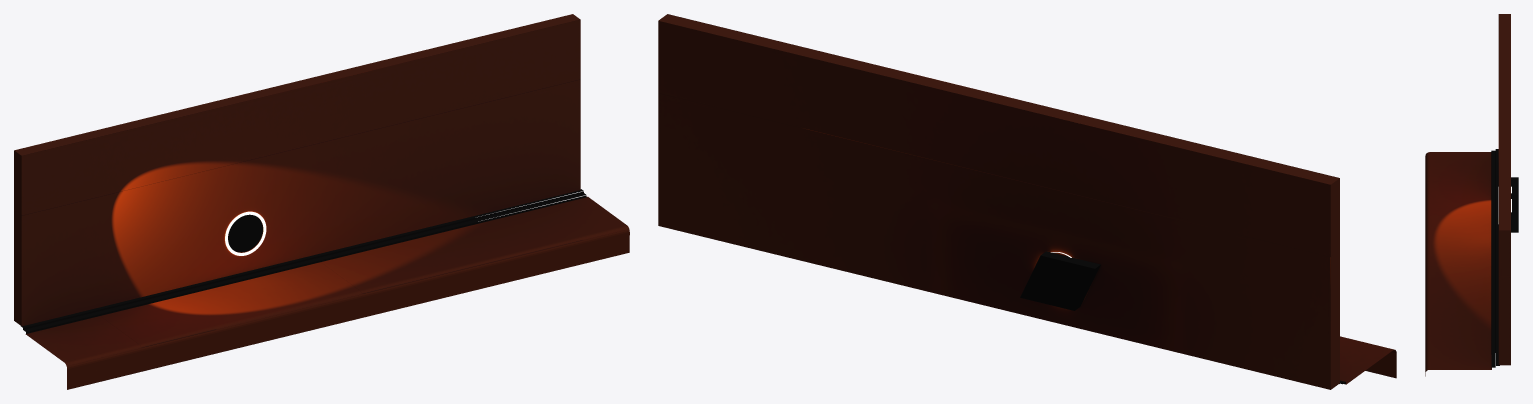
The model's file is WallIntro.glb.
3 views of the same model, side by side, from view 1: azimuth 30°, elevation 25°; view 2: azimuth 150°, elevation 25°; view 3: azimuth 270°, elevation 25° (orthographic). The views are drawn at different scales.
Parts seen in each view (by area): view 1: Cube.009, entrance_wall, entrance_wall.001, room_entrance_1 bloom; view 2: Cube.009, room_entrance_1 bloom, entrance_wall; view 3: entrance_wall, Cube.009, entrance_wall.001, room_entrance_1 bloom.
Part boxes in pixels (x1,y1,x2,y2): Cube.009: (14, 14, 580, 326); entrance_wall: (25, 196, 629, 389); entrance_wall.001: (21, 189, 586, 333); room_entrance_1 bloom: (228, 214, 262, 252); Cube.009: (658, 14, 1339, 389); room_entrance_1 bloom: (1020, 251, 1100, 310); entrance_wall: (1340, 336, 1396, 384); entrance_wall: (1425, 152, 1491, 376); Cube.009: (1498, 14, 1510, 365); entrance_wall.001: (1491, 149, 1499, 367); room_entrance_1 bloom: (1511, 177, 1518, 232).
Size of the model in its own units: 84.97 by 28.87 by 15.35.
Materials: 5 (3 with a texture image).
